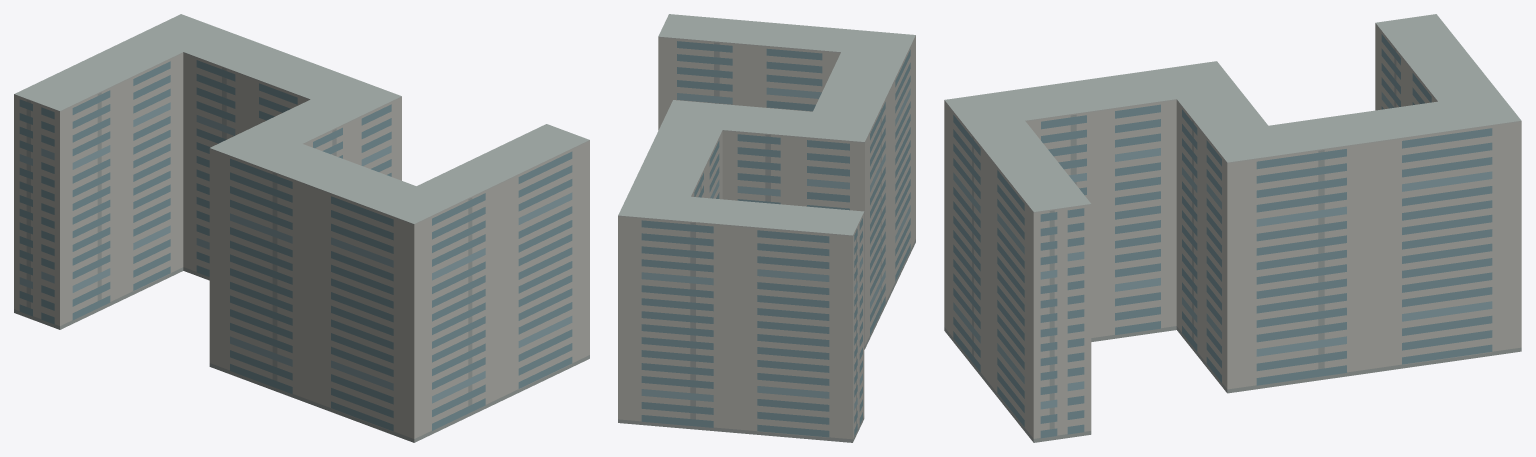
Rendered from residential-9e40e307-8fc6-4c55-a86f-52de7ca61020.glb.
3 renders of one model, left to right at view 1: azimuth 30°, elevation 25°; view 2: azimuth 150°, elevation 25°; view 3: azimuth 270°, elevation 25°, orthographic. The views are drawn at different scales.
Parts seen in each view (by area): view 1: residential-9e40e307-8fc6-4c55-a86f-52de7ca61020.tmp; view 2: residential-9e40e307-8fc6-4c55-a86f-52de7ca61020.tmp; view 3: residential-9e40e307-8fc6-4c55-a86f-52de7ca61020.tmp.
Boxes of the visible parts, left/top/right/bottom form: residential-9e40e307-8fc6-4c55-a86f-52de7ca61020.tmp: left=14, top=14, right=589, bottom=442; residential-9e40e307-8fc6-4c55-a86f-52de7ca61020.tmp: left=618, top=14, right=915, bottom=442; residential-9e40e307-8fc6-4c55-a86f-52de7ca61020.tmp: left=944, top=14, right=1521, bottom=442.
Bounding box in the file's own units: 86.51 × 47 × 107.
